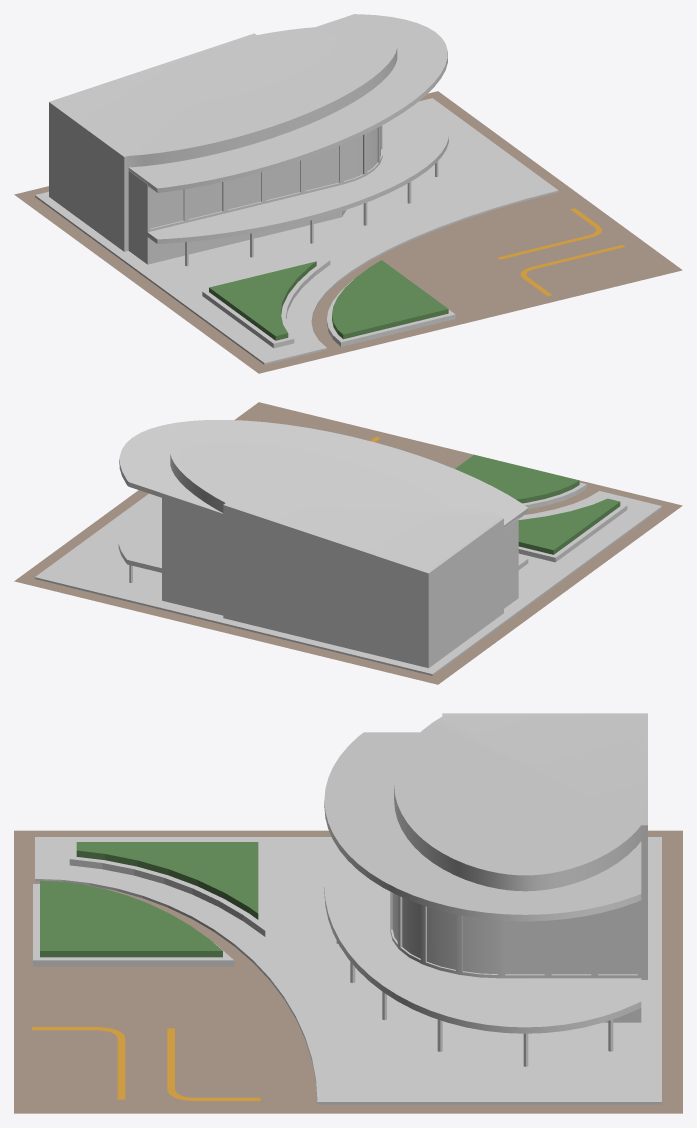
The model's file is tile_poi_expo_6x6_c.fbx.
3 renders of one model, top to bottom at view 1: azimuth 30°, elevation 25°; view 2: azimuth 150°, elevation 25°; view 3: azimuth 270°, elevation 25°, orthographic. The views are drawn at different scales.
Visible parts, largest first — view 1: tile_poi_expo_6x6_c; view 2: tile_poi_expo_6x6_c; view 3: tile_poi_expo_6x6_c.
Boxes of the visible parts, x1,y1,x2,y2 form: tile_poi_expo_6x6_c: (14,14,682,373); tile_poi_expo_6x6_c: (14,402,682,684); tile_poi_expo_6x6_c: (14,713,682,1113).
Bounding box in the file's own units: 9600 × 2672 × 9600.
